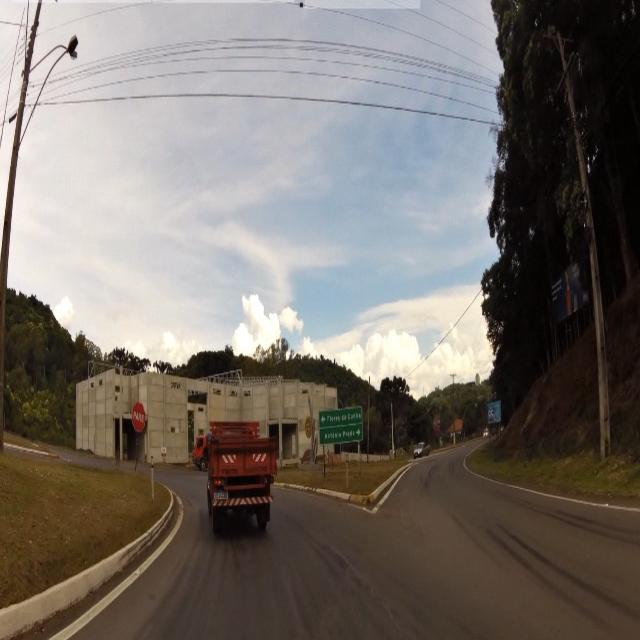I-4: (320, 414, 362, 444)
R-1: (132, 397, 150, 437)
